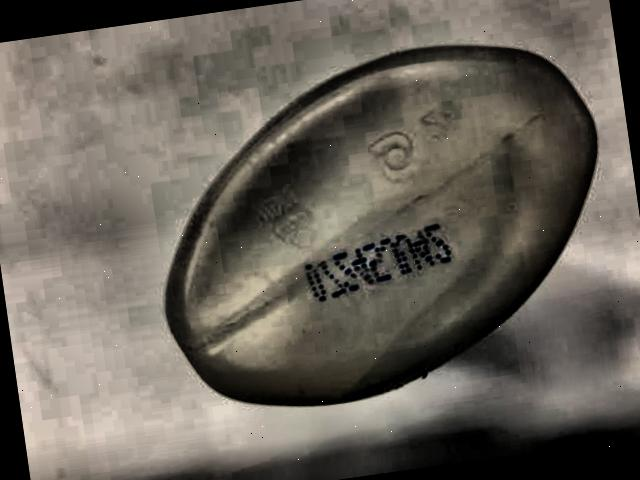Plastic: (106, 10, 640, 442)
